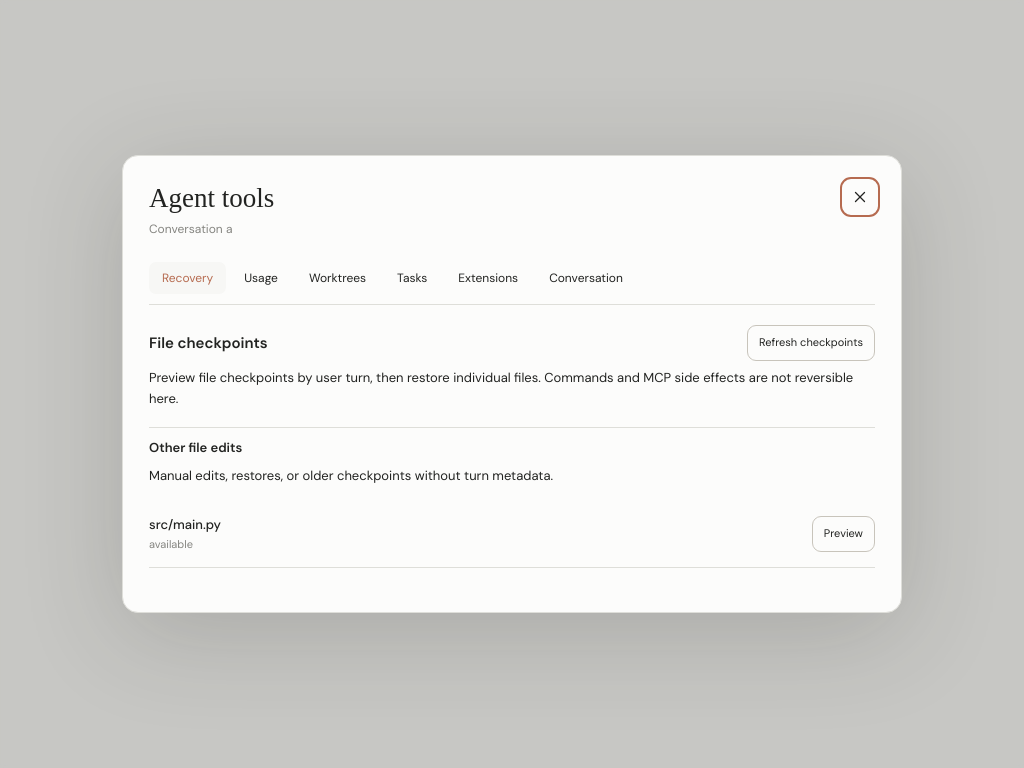
Scenario: previews a checkpoint and restores only the previewed file version
What coordinates should you click on to do the following:
click the button with aria-label "Preview checkpoint src/main.py"
I would click on:
 (843, 534)
Its box is [812,516,875,552].
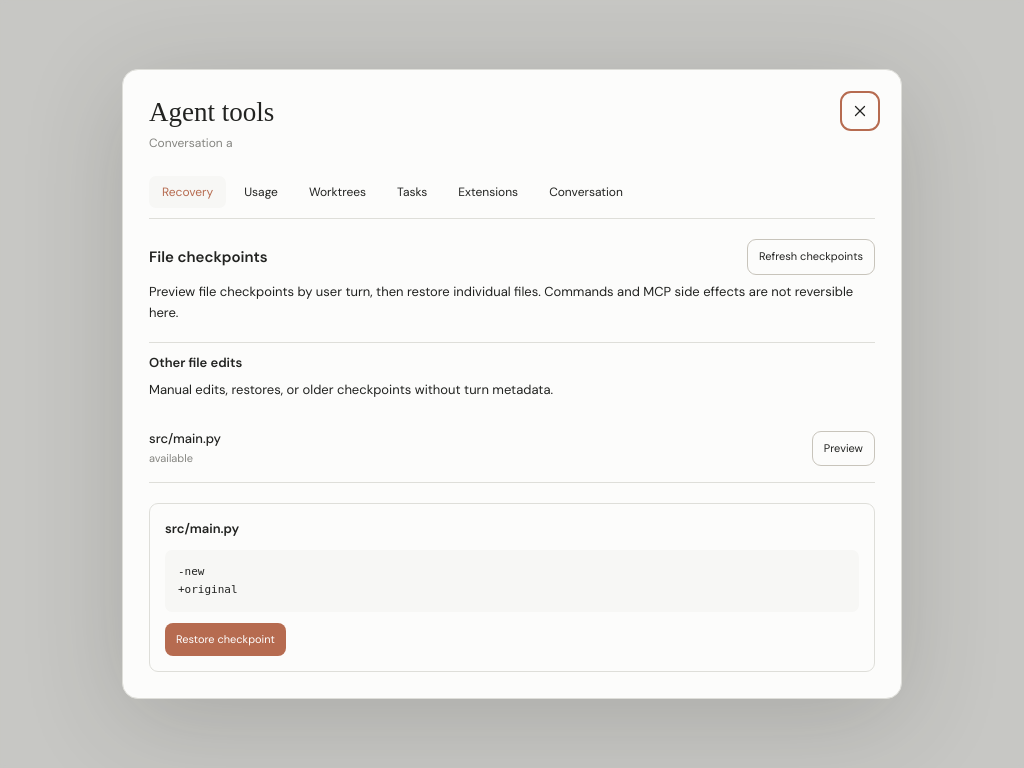
Now the text "-new +original" is shown, box [165,550,859,612]
What coordinates should you click on to do the following:
click the button "Restore checkpoint"
I would click on:
 (225, 639)
Its box is [165,623,286,656].
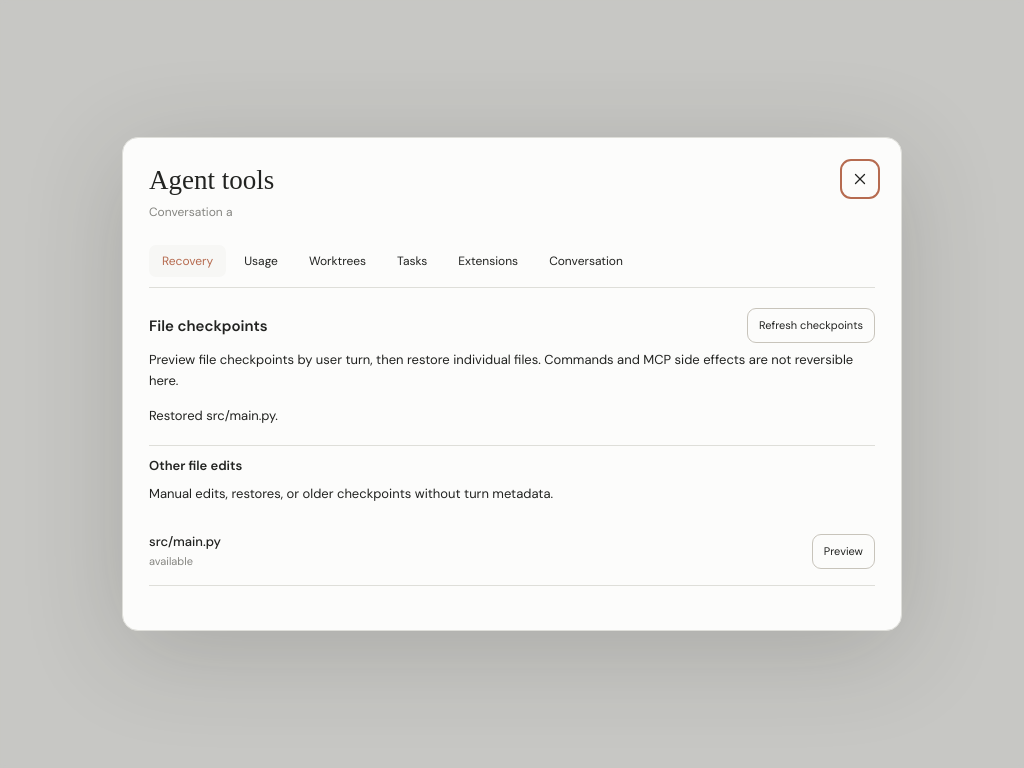
Now the text "Restored src/main.py." is shown, box [149,407,278,424]
Now the button "Restore checkpoint" is gone
